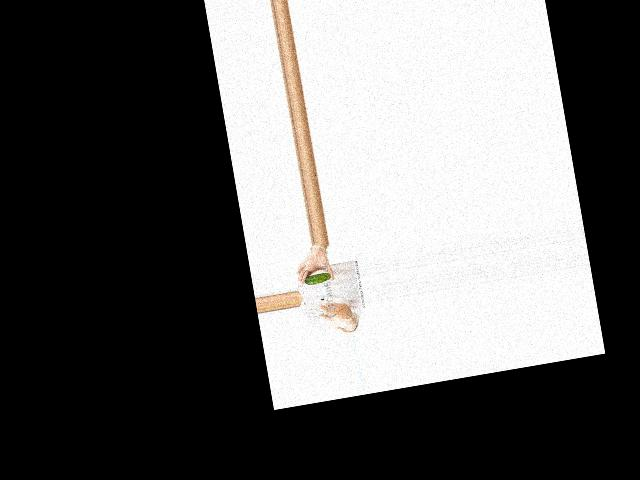cucumber: (303, 271, 331, 285)
